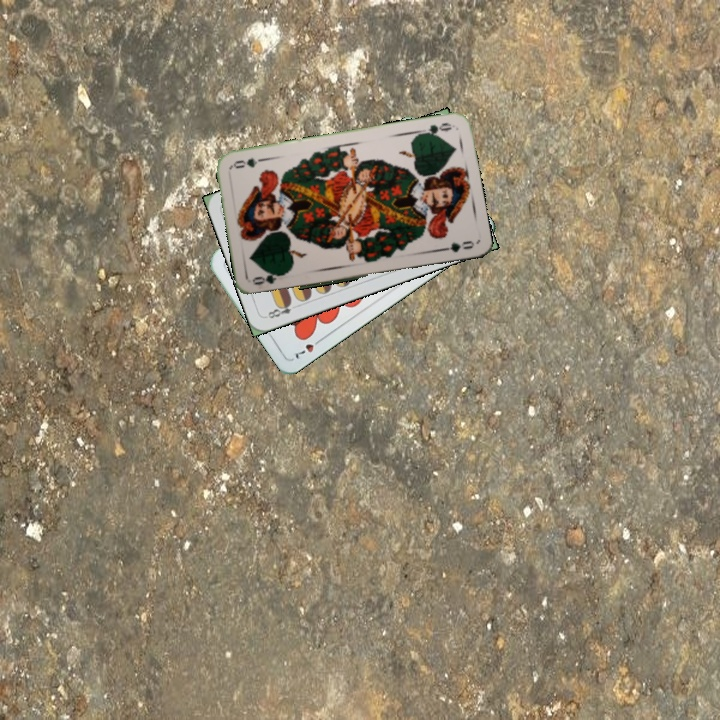E8: (262, 297, 294, 321)
GO: (415, 118, 456, 138), (249, 268, 289, 287)
H7: (291, 334, 325, 362)
